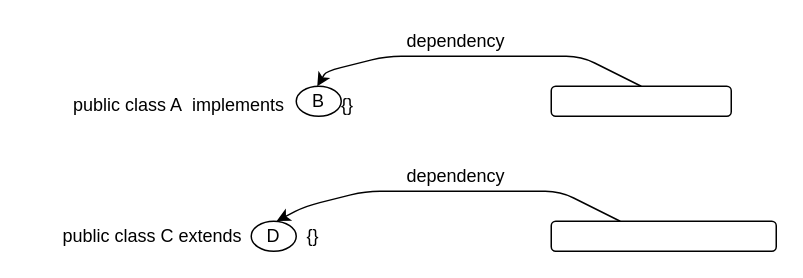
Some shapes in this 803 by 278 pixel diagram are drawn without their labels. Each missing label, with the centre of its shape:
"public abstract class D {}" goes at (663,235).
"public interface B {}" goes at (640,100).
